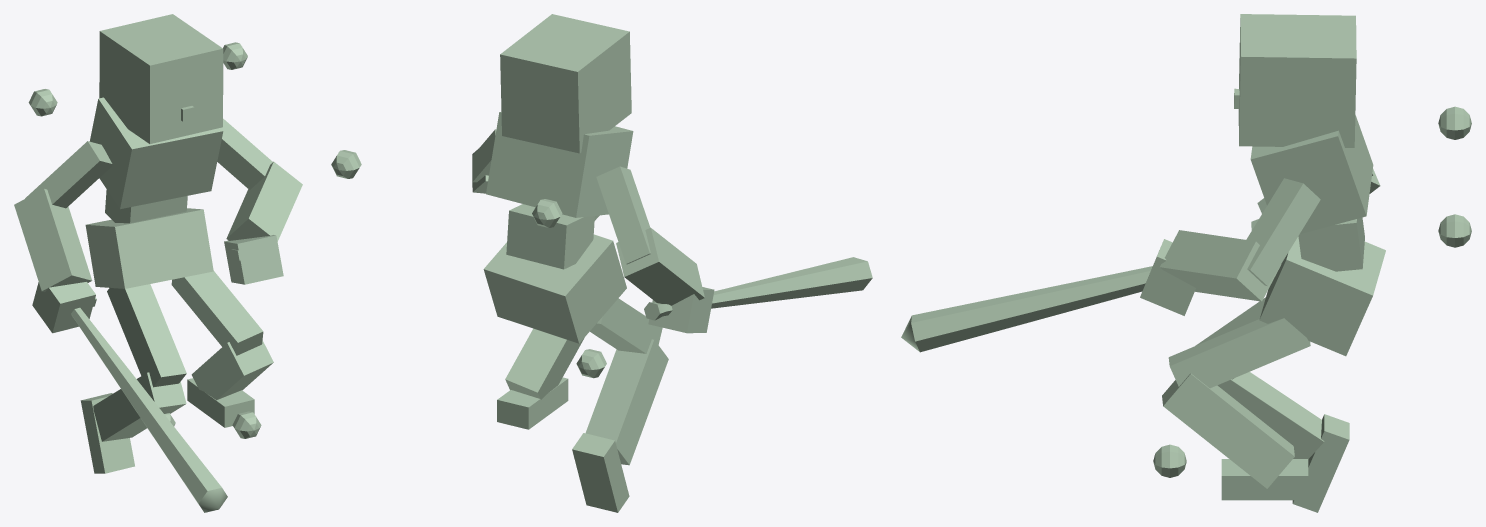
Rendered from ikDchara.anime.jamp.up2.fbx.
The picture shows the model from 3 angles, left to right: view 1: azimuth 30°, elevation 25°; view 2: azimuth 150°, elevation 25°; view 3: azimuth 270°, elevation 25°; orthographic projection. The views are drawn at different scales.
Visible parts, largest first — view 1: Haed__FK_Ctrl, pCube6, Hip_FK_Ctrl1, pCylinder6, pCube8, pCube3, pCube18, pCube20, pCube2, pCube17, pCube7, LeftHand_FK_Ctrl (+8 smaller); view 2: Haed__FK_Ctrl, Hip_FK_Ctrl1, pCube6, pCube2, pCylinder6, pCube5, pCube8, pCube17, pCube1, pCube7, pCube3, pCube16 (+5 smaller); view 3: Haed__FK_Ctrl, Hip_FK_Ctrl1, pCylinder6, pCube6, pCube17, pCube18, pCube20, pCube19, pCube2, pCube16, pCube5, pCube1 (+5 smaller).
Part boxes in pixels (x1,y1,x2,y2): Haed__FK_Ctrl: (99,14,223,143); pCube6: (89,97,223,209); Hip_FK_Ctrl1: (85,208,213,288); pCylinder6: (71,307,227,512); pCube8: (14,189,92,291); pCube3: (107,284,186,387); pCube18: (171,271,263,355); pCube20: (226,161,302,241); pCube2: (93,372,186,441); pCube17: (191,340,273,400); pCube7: (25,141,112,208); LeftHand_FK_Ctrl: (224,235,283,284); Haed__FK_Ctrl: (500,14,631,153); Hip_FK_Ctrl1: (483,234,626,343); pCube6: (486,112,633,217); pCube2: (585,339,668,465); pCylinder6: (644,257,872,320); pCube5: (506,204,594,269); pCube8: (616,227,704,305); pCube17: (505,328,584,399); pCube1: (572,433,629,512); pCube7: (596,166,650,264); pCube3: (590,298,662,353); pCube16: (497,377,568,429); Haed__FK_Ctrl: (1238,14,1356,147); Hip_FK_Ctrl1: (1259,236,1385,356); pCylinder6: (901,266,1152,352); pCube6: (1250,115,1373,233); pCube17: (1162,373,1294,488); pCube18: (1168,318,1310,388); pCube20: (1160,230,1281,301); pCube19: (1246,178,1320,285); pCube2: (1217,372,1324,458); pCube16: (1221,459,1308,500); pCube5: (1298,217,1364,271); pCube1: (1292,414,1349,512).
Bounding box in the file's own units: 12.97 × 18.92 × 19.79.
